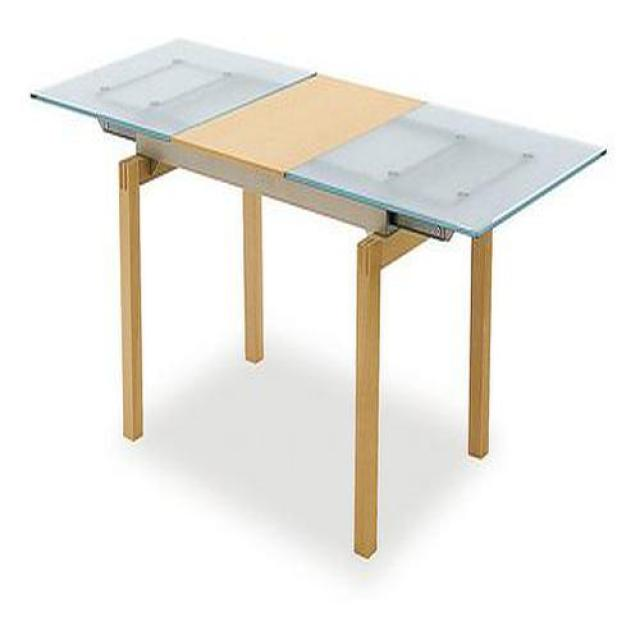table: (32, 40, 608, 559)
